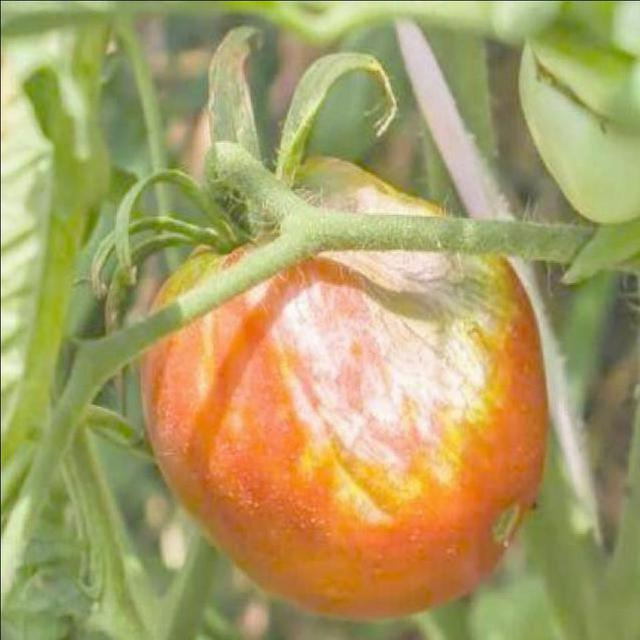Sunscald Fruit: (162, 125, 350, 343)
